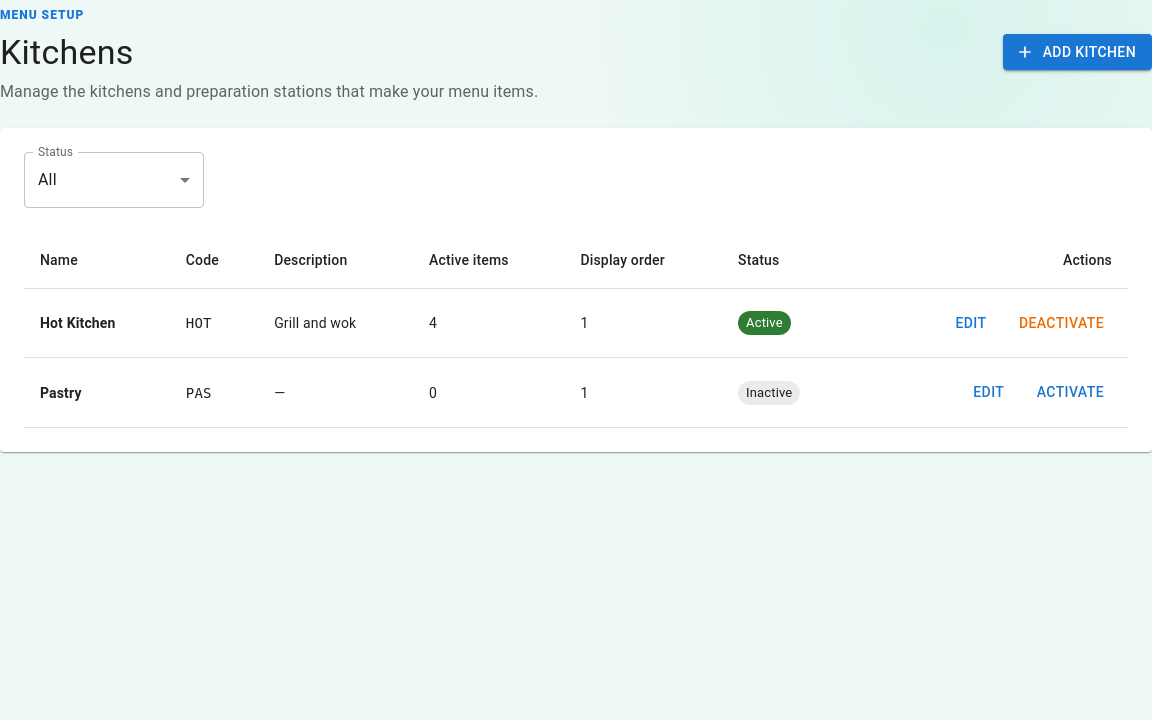
Scenario: Kitchen management › activates an inactive kitchen and reloads the list
Step 1. Click the button with aria-label "Activate Pastry" → (1070, 393), box [1029,374,1112,411]
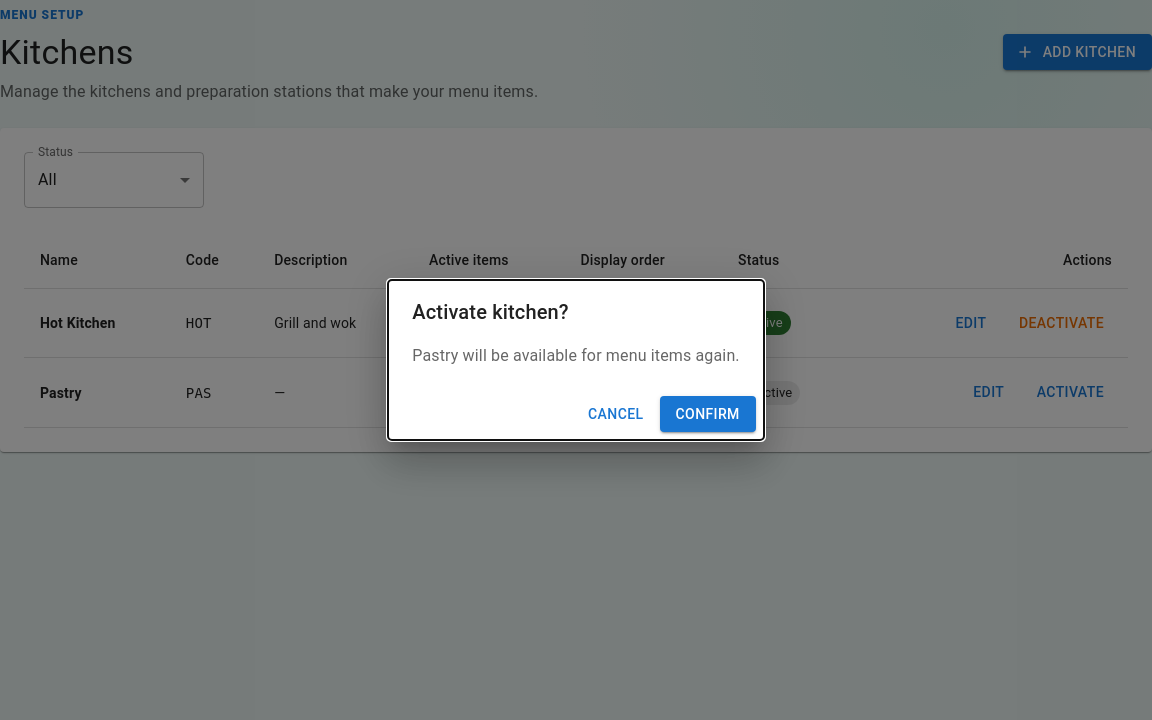
Step 2. Click the button "Confirm" → (708, 414), box [660,396,756,432]
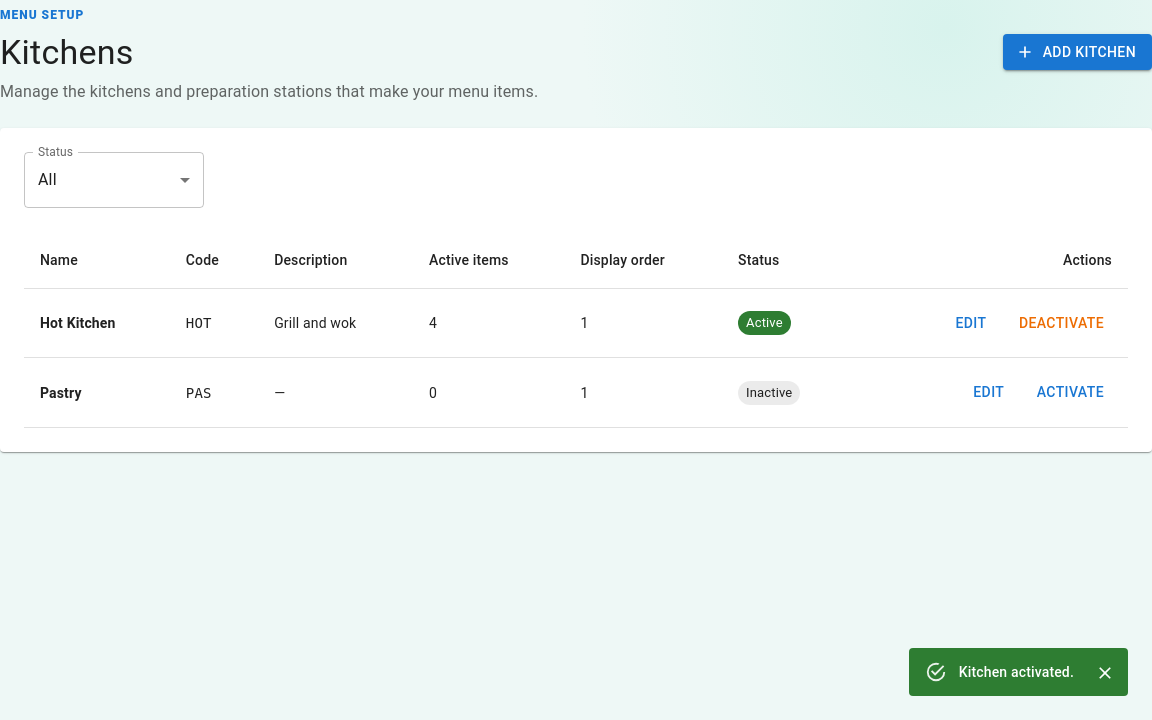
Expected: the text "Kitchen activated." is shown, [959,664,1074,680]
